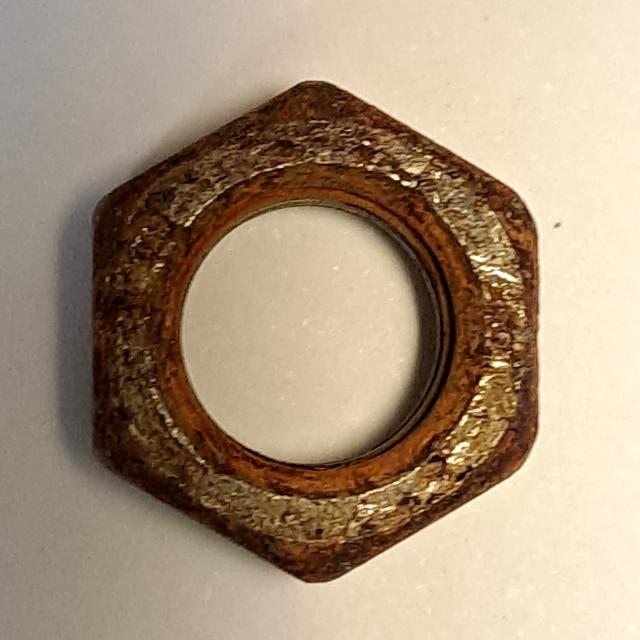Rust: (81, 51, 552, 603)
